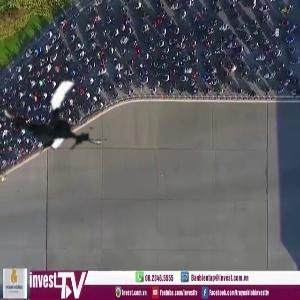drone: (5, 72, 108, 175)
